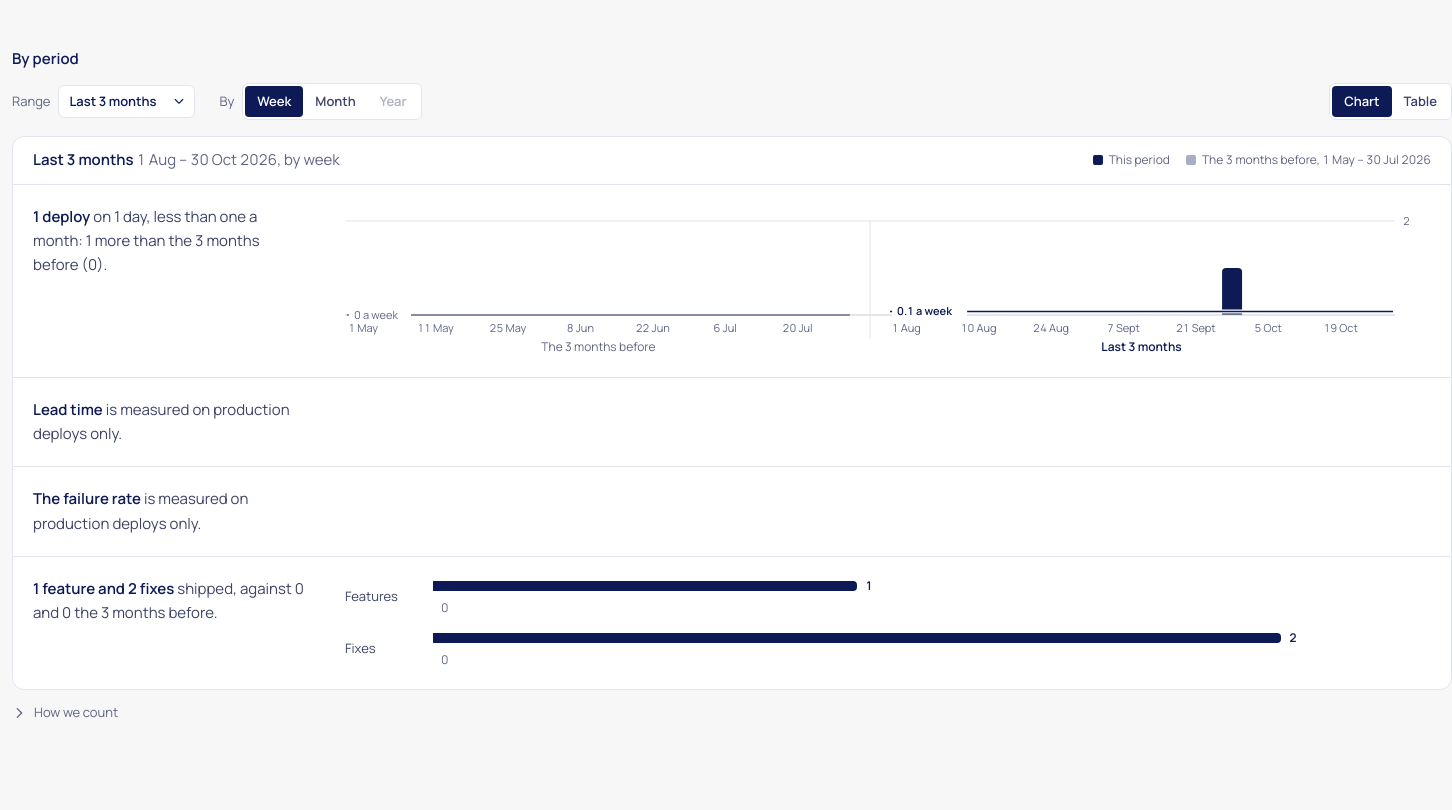
Test case: PeriodSection › keeps lead time and failures to production
Step 1. Click the radio button labelled "Table" → {"x": 1420, "y": 100}, box [1404, 92, 1437, 110]
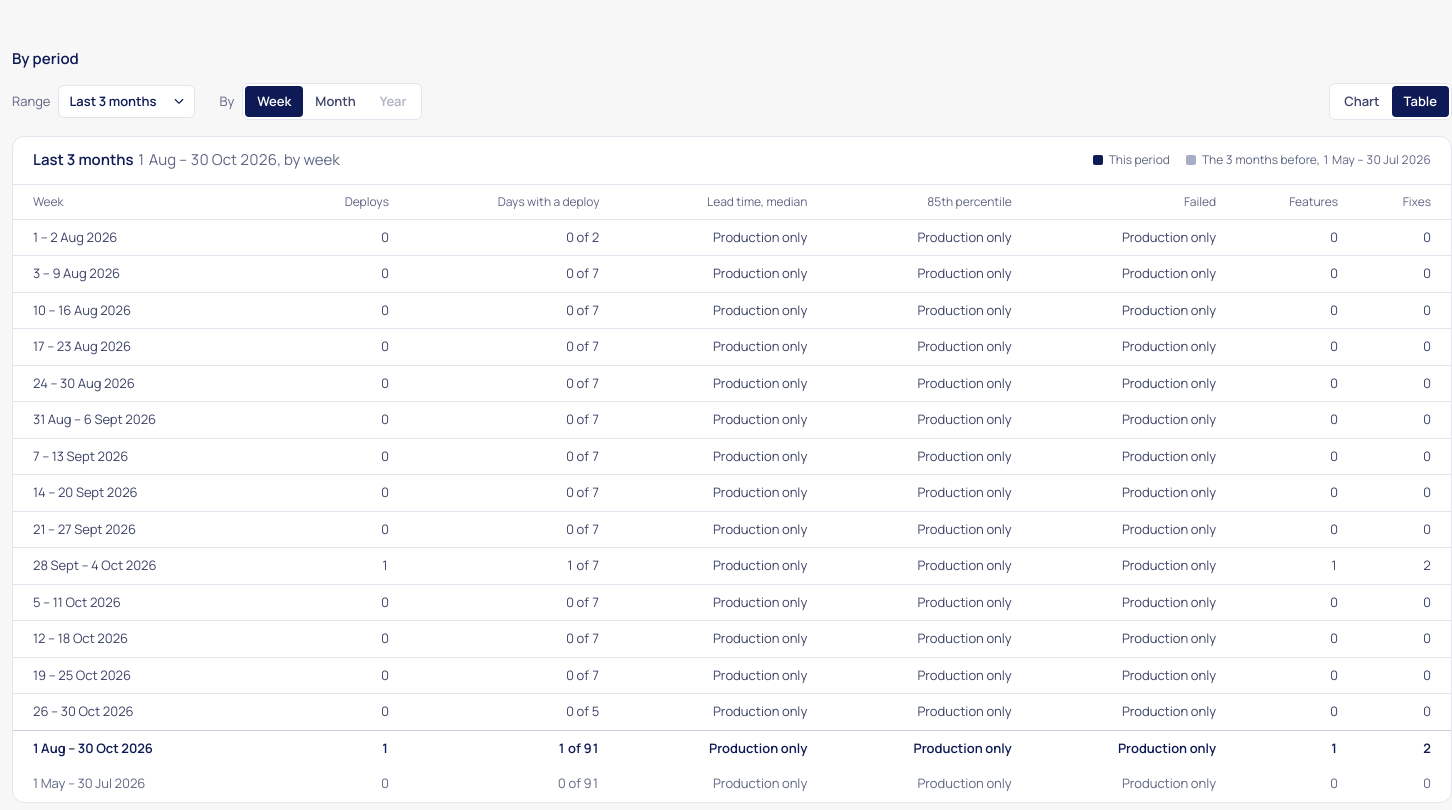
Expected: the column heading "Days with a deploy" is shown, [401, 184, 612, 219]
Expected: the 1st text "Production only" is shown, [612, 220, 819, 256]
